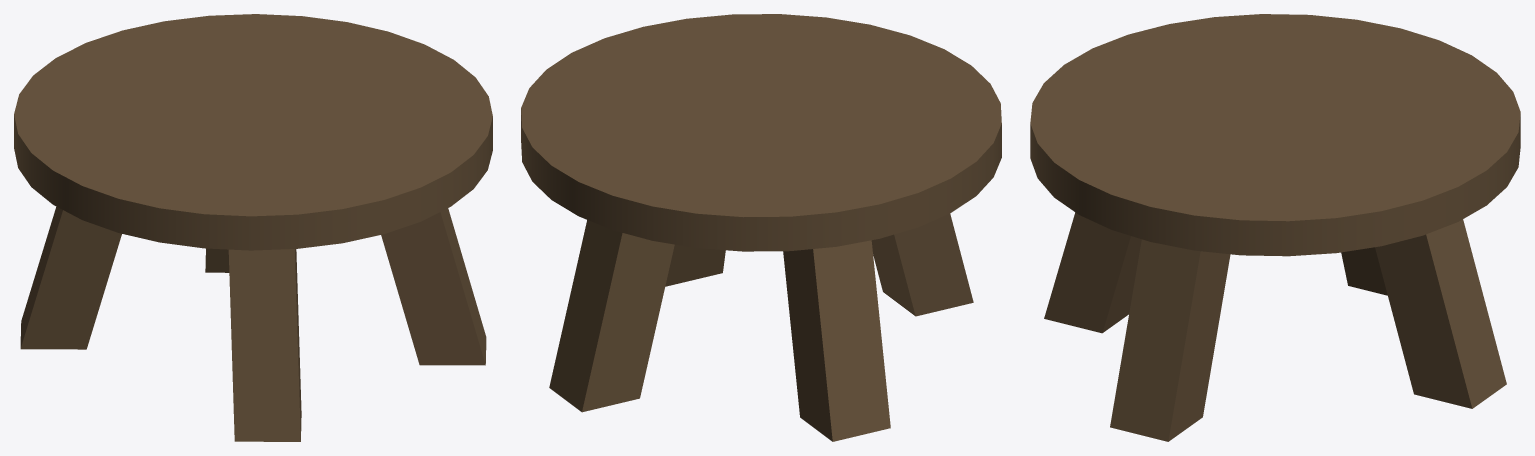
The model's file is the-terrace-table-low.fbx.
The picture shows the model from 3 angles, left to right: view 1: azimuth 30°, elevation 25°; view 2: azimuth 150°, elevation 25°; view 3: azimuth 270°, elevation 25°; orthographic projection. The views are drawn at different scales.
Visible parts, largest first — view 1: Plane.007; view 2: Plane.007; view 3: Plane.007.
Boxes of the visible parts, <box> form: Plane.007: <box>14,14,492,441</box>; Plane.007: <box>521,14,1001,441</box>; Plane.007: <box>1030,14,1520,441</box>.
Bounding box in the file's own units: 103 × 54.02 × 103.
